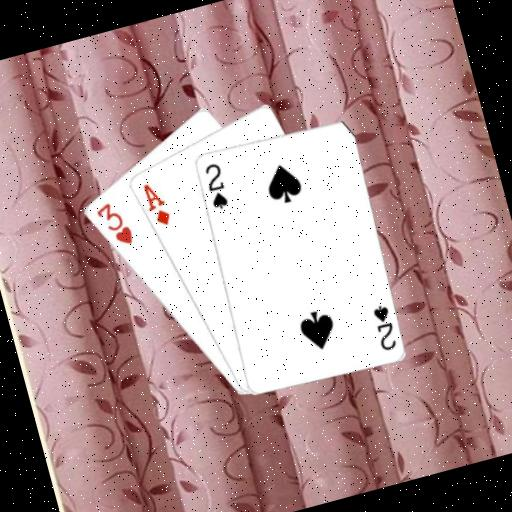2S: (198, 158, 232, 212), (366, 299, 399, 353)
3H: (90, 195, 135, 252)
AD: (138, 177, 173, 230)
